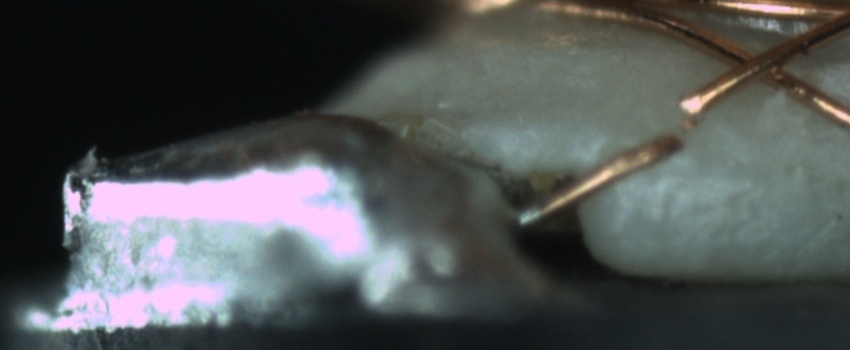CL: (714, 36, 807, 93)
DL: (613, 155, 763, 208)
